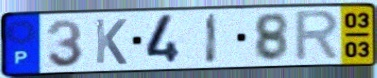3: (44, 17, 86, 70)
4: (143, 13, 187, 68)
8: (251, 11, 290, 64)
I: (203, 12, 220, 66)
K: (93, 17, 129, 66)
R: (292, 8, 343, 64)
